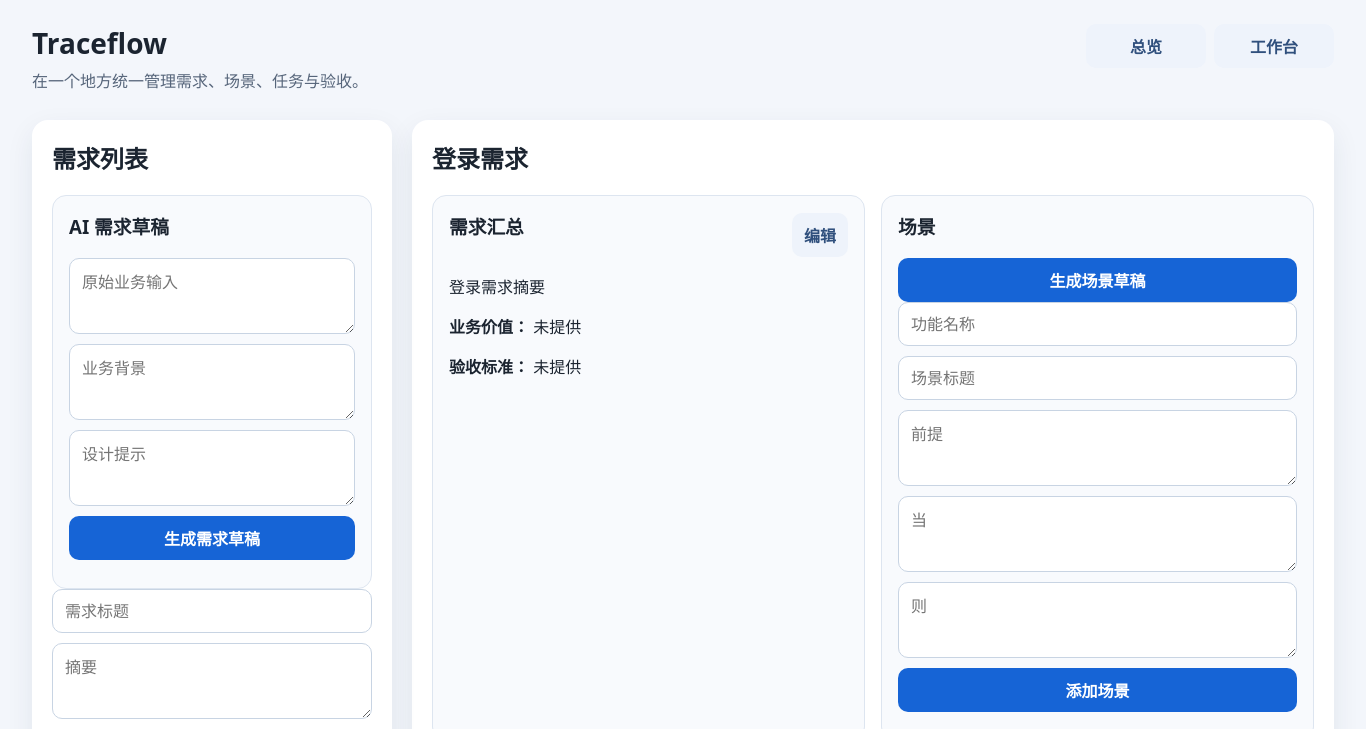
it: App › opens requirement edit form from detail card
This screenshot has width=1366, height=729.
Check: the text "登录需求摘要" is shown, box [449,276,545,298]
Click the button "编辑" at (820, 235), box [792,213,848,257]
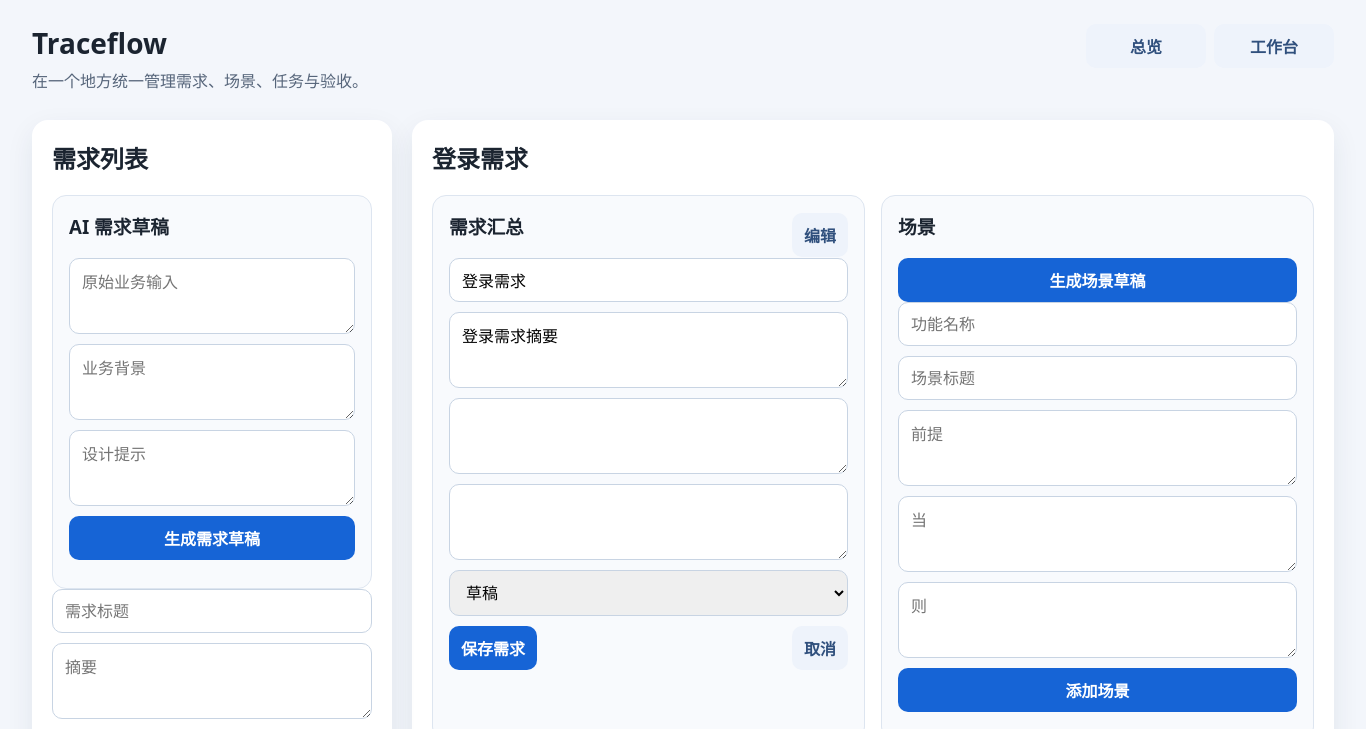
Check: the field named "编辑需求标题" holds "登录需求", box [449,258,848,302]
Check: the button "保存需求" is shown, box [449,626,537,670]
Check: the button "取消" is shown, box [792,626,848,670]
